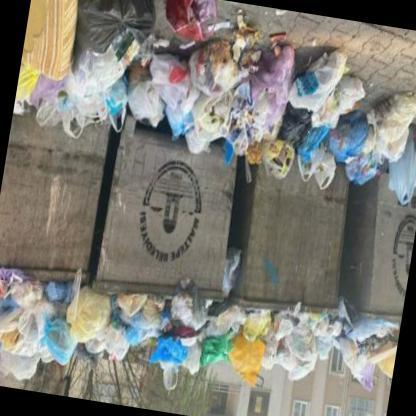Garbage: (218, 34, 360, 174), (0, 276, 106, 371), (101, 290, 223, 371), (121, 51, 228, 142), (60, 0, 137, 119), (220, 305, 332, 369), (350, 92, 415, 200), (216, 304, 274, 388), (335, 318, 399, 382)
